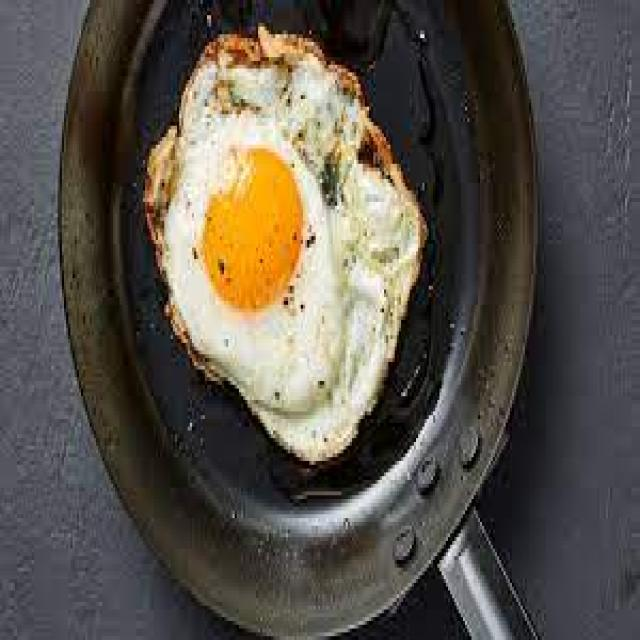Egg: (145, 27, 426, 461)
